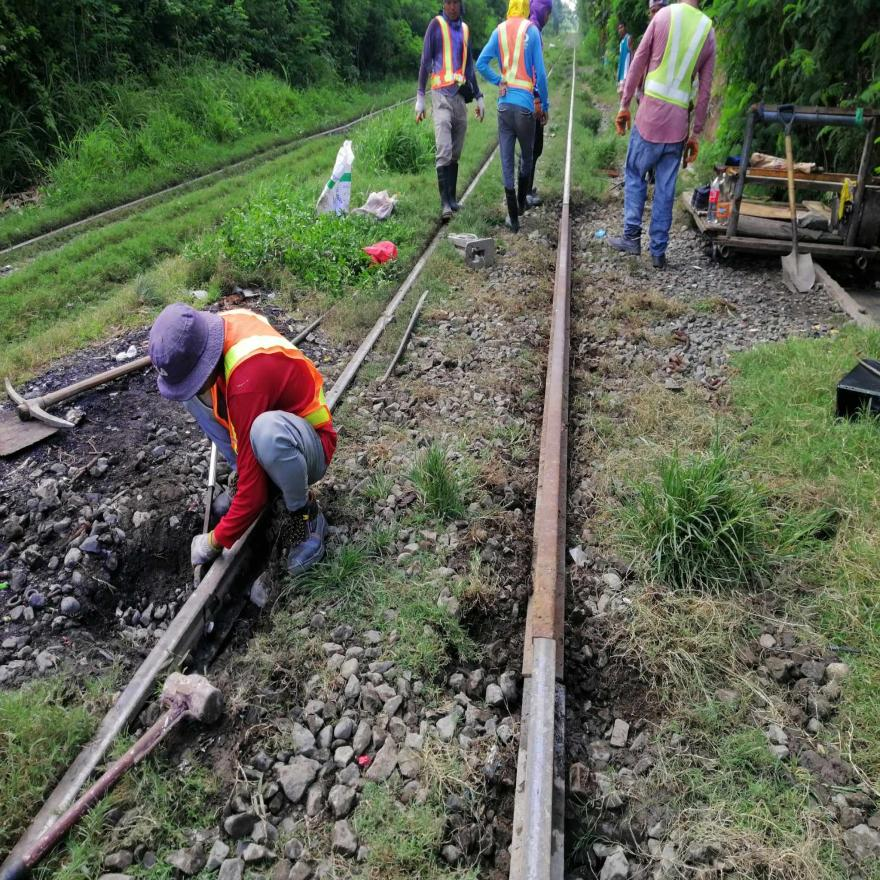railway-gap: (520, 600, 570, 676)
